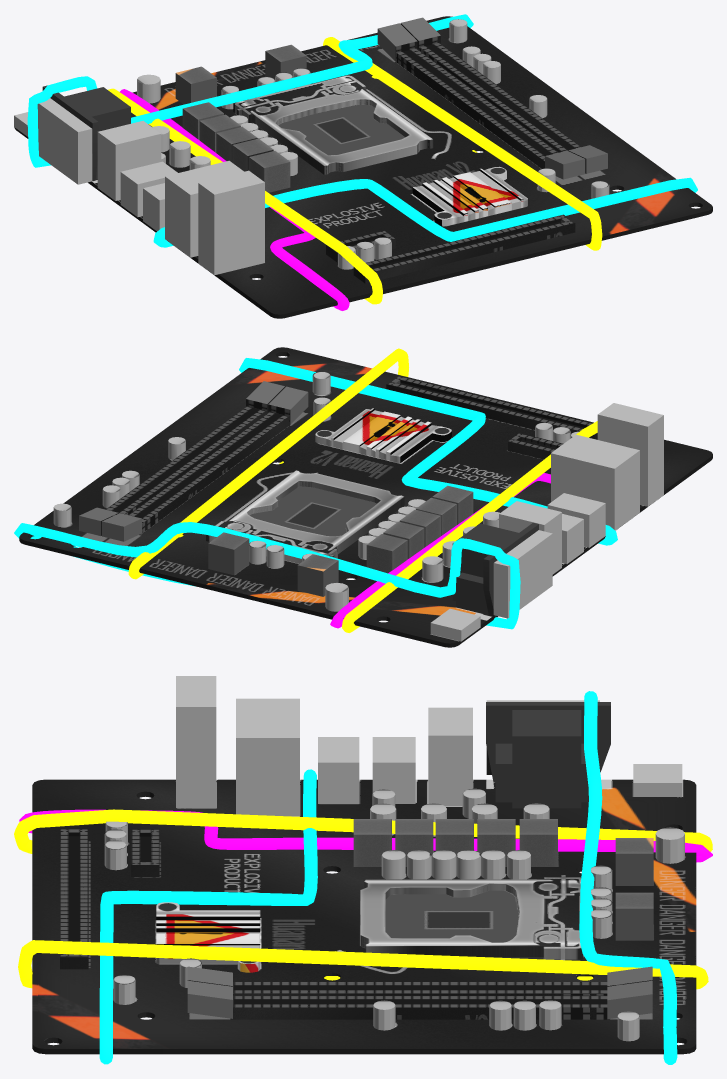
The model's file is HuananV2.fbx.
3 renders of one model, top to bottom at view 1: azimuth 30°, elevation 25°; view 2: azimuth 150°, elevation 25°; view 3: azimuth 270°, elevation 25°, orthographic. The views are drawn at different scales.
Visible parts, largest first — view 1: Mother, Tube.004, Tube.003, Tube, Tube.002, Tube.001; view 2: Mother, Tube.004, Tube.003, Tube, Tube.002, Tube.001; view 3: Mother, Tube, Tube.003, Tube.002, Tube.004, Tube.001.
Boxes of the visible parts, x1,y1,x2,y2 form: Mother: (14, 16, 712, 318); Tube.004: (27, 14, 473, 167); Tube.003: (153, 177, 697, 247); Tube: (323, 37, 602, 250); Tube.002: (108, 88, 382, 304); Tube.001: (120, 89, 349, 310); Mother: (19, 347, 712, 647); Tube.004: (14, 522, 520, 629); Tube.003: (239, 358, 617, 545); Tube: (128, 348, 408, 579); Tube.002: (342, 421, 597, 632); Tube.001: (330, 473, 550, 628); Mother: (32, 676, 696, 1054); Tube: (18, 940, 708, 989); Tube.003: (99, 769, 317, 1064); Tube.002: (14, 809, 712, 853); Tube.004: (579, 691, 677, 1064); Tube.001: (19, 809, 712, 862).
Size of the model in its own units: 90.19 by 91.48 by 18.28.
